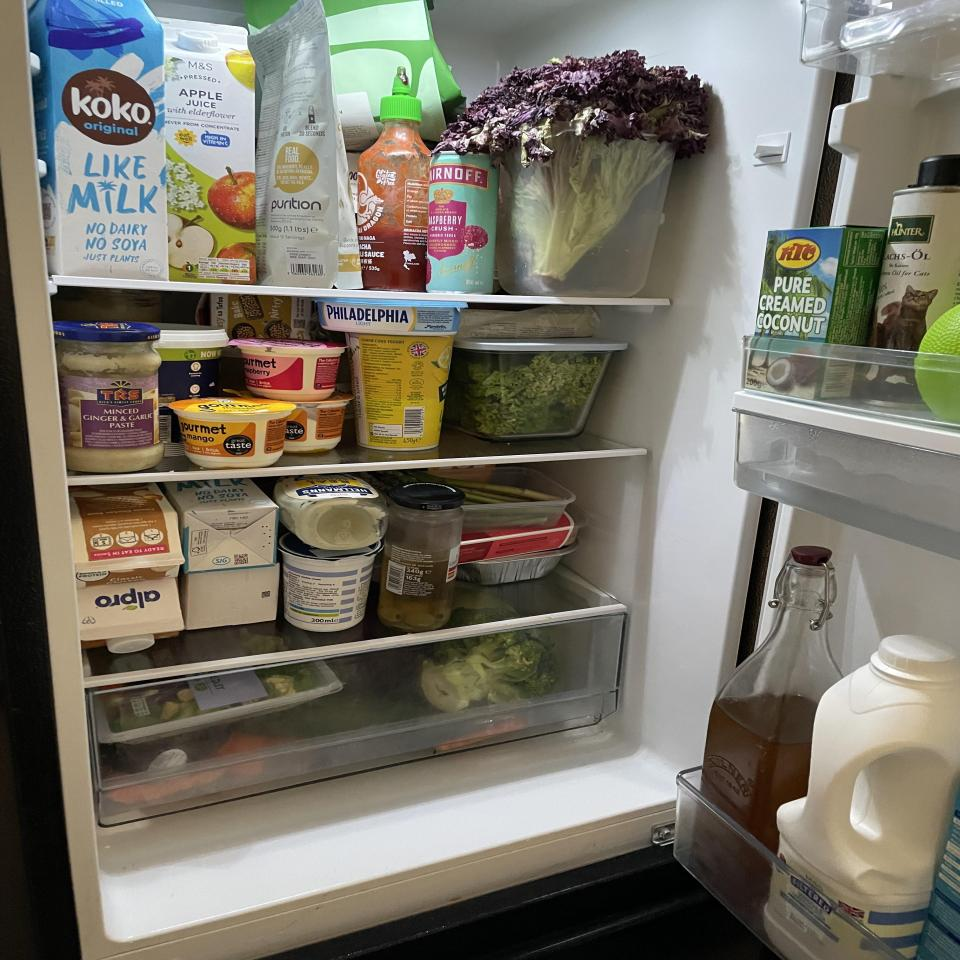Leche: (764, 634, 960, 960), (21, 0, 170, 282)
Yogur: (349, 331, 454, 451)
